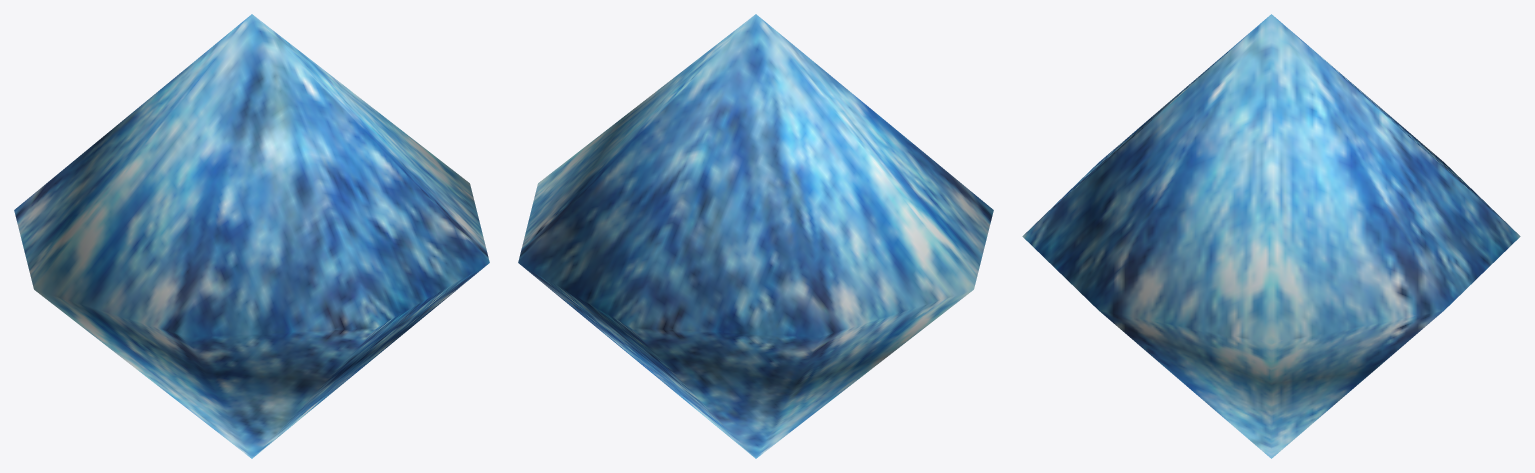
Rendered from Item0903.obj.
The picture shows the model from 3 angles, left to right: view 1: azimuth 30°, elevation 25°; view 2: azimuth 150°, elevation 25°; view 3: azimuth 270°, elevation 25°; orthographic projection.
Visible parts, largest first — view 1: 0; view 2: 0; view 3: 0.
Part boxes in pixels (x1,y1,x2,y2): 0: [14, 14, 489, 458]; 0: [518, 14, 993, 458]; 0: [1022, 14, 1520, 458].
Size of the model in its own units: 15.15 by 14.78 by 15.
